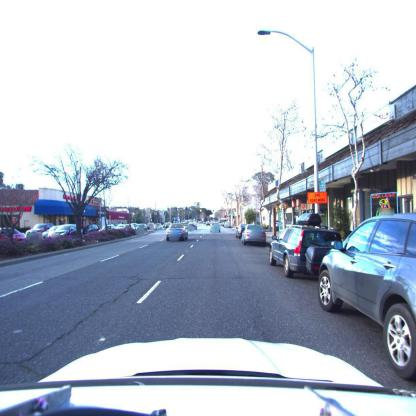car: (0, 337, 416, 416), (314, 209, 416, 380), (268, 226, 345, 279), (45, 225, 83, 239), (242, 224, 266, 246), (165, 221, 188, 243), (26, 224, 55, 240), (1, 228, 26, 245), (209, 221, 223, 236), (237, 224, 248, 238), (115, 223, 132, 231), (147, 220, 158, 232), (88, 222, 100, 232)
sign: (307, 191, 328, 205), (318, 178, 327, 193)
